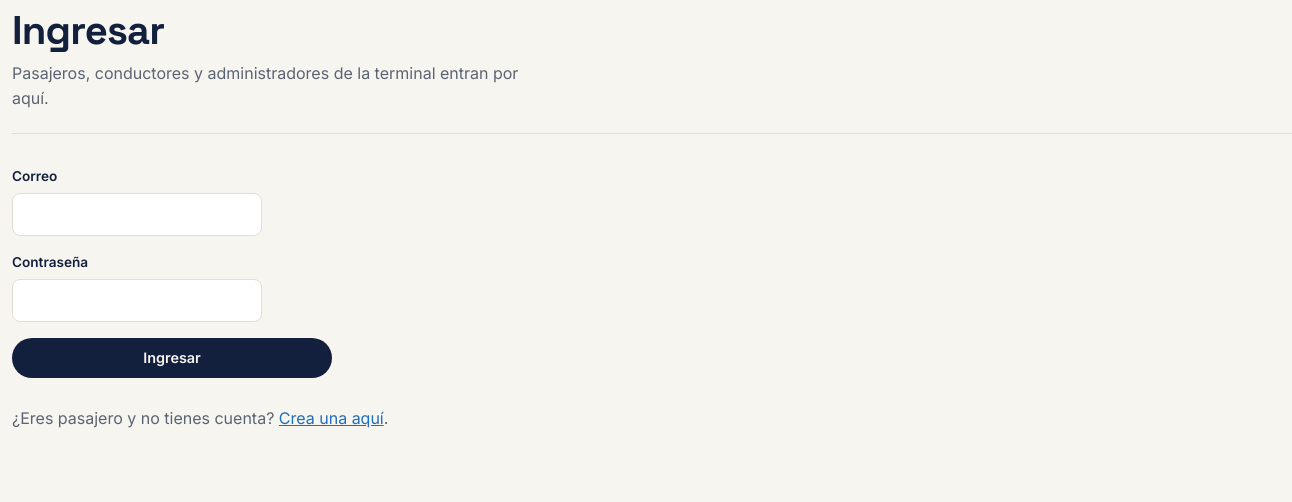
Test case: Login › muestra el error del servidor y permite reintentar
In the field labelled "Correo": (137, 214) [12,193,262,236], type "x@y.cl"
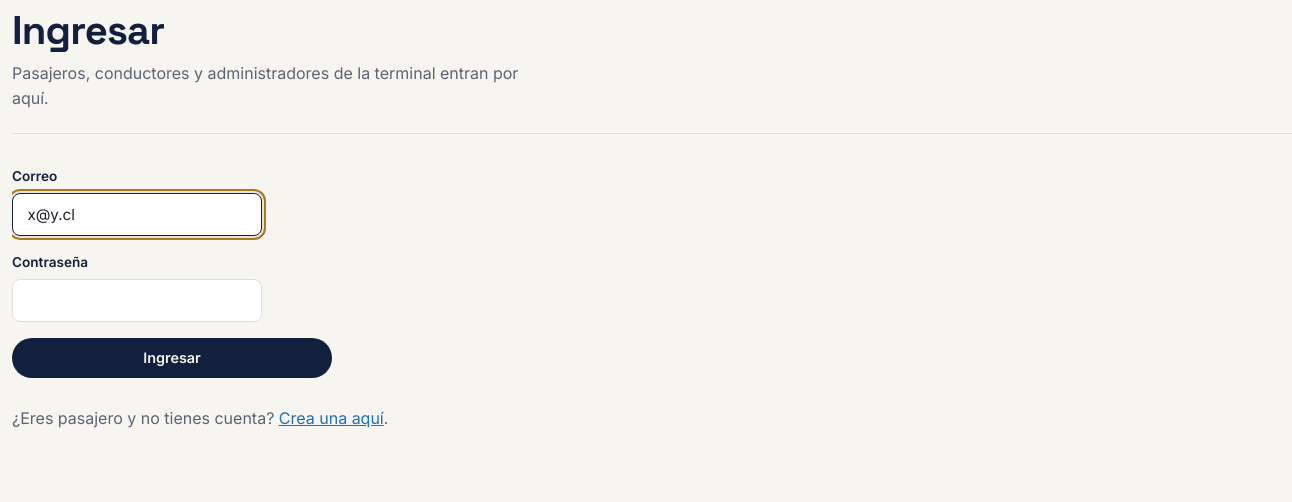
In the password field labelled "Contraseña": (137, 301) [12,279,262,322], type "mala-clave-1"
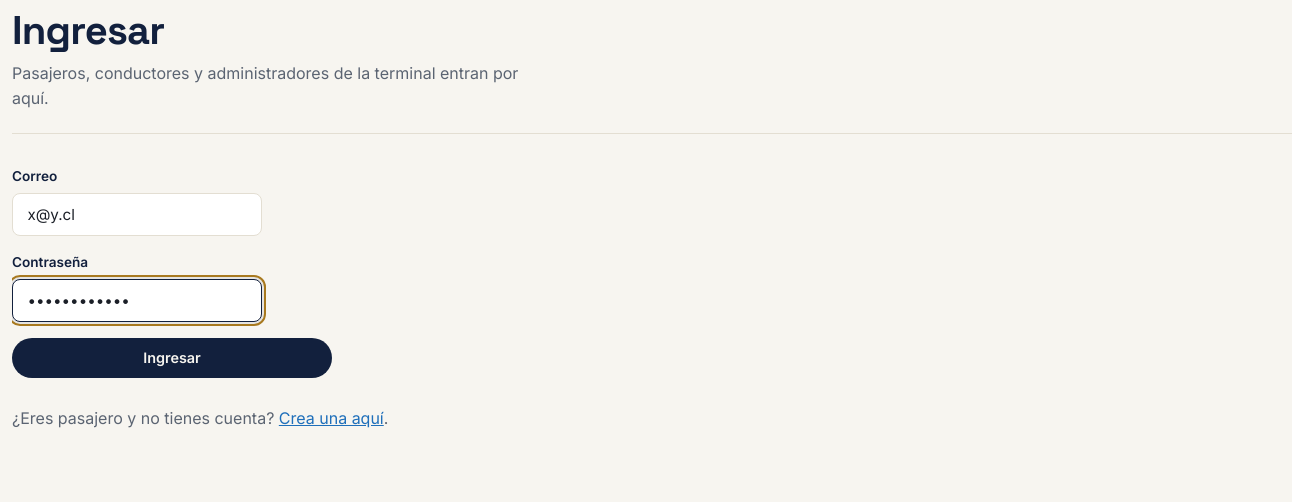
Click the button "Ingresar": (172, 358) [12,338,332,378]
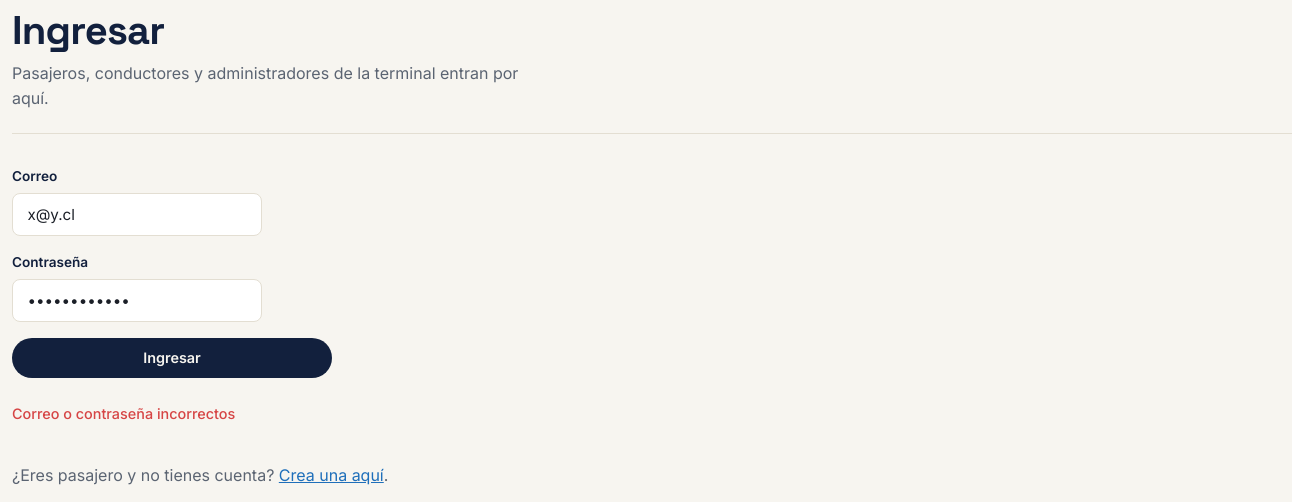
Now the message reads "Correo o contraseña incorrectos", box [12,405,235,422]
